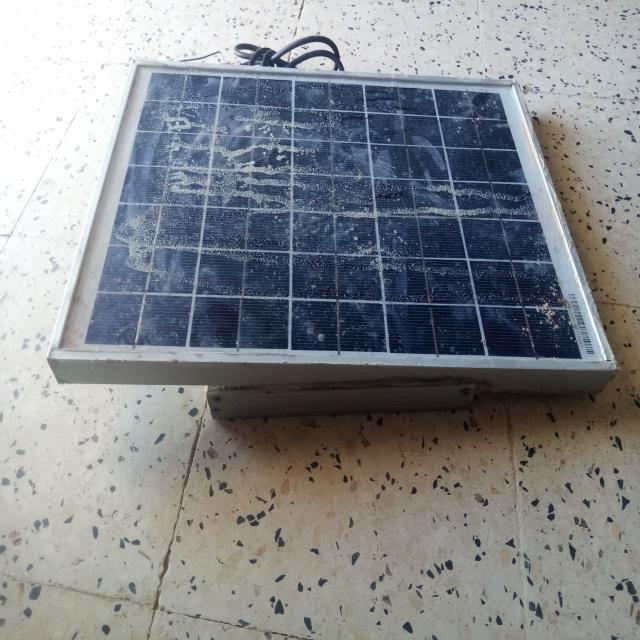faulty: (48, 59, 618, 367)
